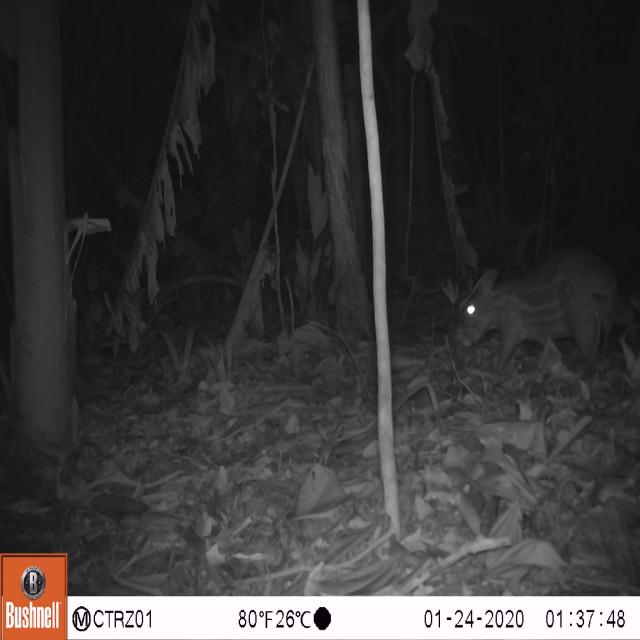Spotted Paca: (444, 227, 640, 402)
